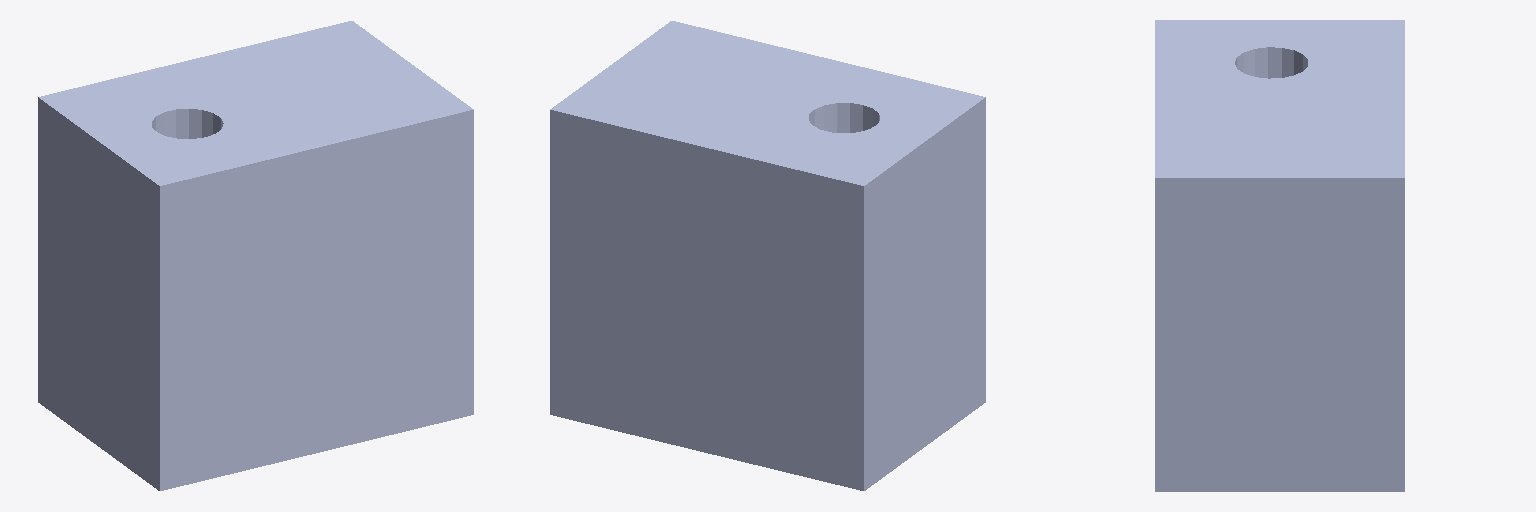
The robot description file, URDF, robot "pan_tilt_urdf":
<?xml version="1.0" encoding="utf-8"?>
<!-- This URDF was automatically created by SolidWorks to URDF Exporter! Originally created by [author] ([email redacted]) 
     Commit Version: 1.5.1-0-g916b5db  Build Version: 1.5.7152.31018
     For more information, please see http://wiki.ros.org/sw_urdf_exporter -->
<robot
  name="pan_tilt_urdf">
  <link
    name="base_link">
    <visual>
      <origin
        xyz="0 0 0"
        rpy="0 0 0" />
      <geometry>
        <mesh
          filename="package://pan_tilt_urdf/meshes/base_link.STL" />
      </geometry>
      <material
        name="">
        <color
          rgba="0.792156862745098 0.819607843137255 0.933333333333333 1" />
      </material>
    </visual>
    <collision>
      <origin
        xyz="0 0 0"
        rpy="0 0 0" />
      <geometry>
        <mesh
          filename="package://pan_tilt_urdf/meshes/base_link.STL" />
      </geometry>
    </collision>
  </link>
  <!-- <link
    name="link_1">
    <inertial>
      <origin
        xyz="0 0.0001 -0.0175"
        rpy="0 0 0" />
      <mass
        value="0.116439048622548" />
      <inertia
        ixx="5.4773296696691E-05"
        ixy="4.48041882672505E-08"
        ixz="-1.28518056547677E-09"
        iyy="3.6060486101088E-05"
        iyz="6.24058336574991E-10"
        izz="6.71747800213724E-05" />
    </inertial>
    <visual>
      <origin
        xyz="0 0 0"
        rpy="0 0 0" />
      <geometry>
        <mesh
          filename="package://pan_tilt_urdf/meshes/link_1.STL" />
      </geometry>
      <material
        name="">
        <color
          rgba="0.792156862745098 0.819607843137255 0.933333333333333 1" />
      </material>
    </visual>
    <collision>
      <origin
        xyz="0 0 0"
        rpy="0 0 0" />
      <geometry>
        <mesh
          filename="package://pan_tilt_urdf/meshes/link_1.STL" />
      </geometry>
    </collision>
  </link>
  <joint
    name="joint_1"
    type="revolute">
    <origin
      xyz="0 0 0"
      rpy="0 0 0" />
    <parent
      link="base_link" />
    <child
      link="link_1" />
    <axis
      xyz="0 0 0" />
    <limit
      lower="0"
      upper="0"
      effort="0"
      velocity="0" />
  </joint> -->

  <!-- <link
    name="link_2">
    <inertial>
      <origin
        xyz="-0.000106670791177172 -0.0204708849183403 -0.022011080240118"
        rpy="0 0 0" />
      <mass
        value="0.0445303539967062" />
      <inertia
        ixx="2.15391444555253E-05"
        ixy="1.54239563794704E-07"
        ixz="2.1428028531665E-08"
        iyy="2.69536793976105E-05"
        iyz="-4.1238886376038E-06"
        izz="3.86352288574204E-05" />
    </inertial>
    <visual>
      <origin
        xyz="0 0 0"
        rpy="0 0 0" />
      <geometry>
        <mesh
          filename="package://pan_tilt_urdf/meshes/link_2.STL" />
      </geometry>
      <material
        name="">
        <color
          rgba="0.792156862745098 0.819607843137255 0.933333333333333 1" />
      </material>
    </visual>
    <collision>
      <origin
        xyz="0 0 0"
        rpy="0 0 0" />
      <geometry>
        <mesh
          filename="package://pan_tilt_urdf/meshes/link_2.STL" />
      </geometry>
    </collision>
  </link>
  <joint
    name="joint_2"
    type="revolute">
    <origin
      xyz="0 -0.02545 0.00039"
      rpy="0 0 0" />
    <parent
      link="link_1" />
    <child
      link="link_2" />
    <axis
      xyz="0 0 0" />
    <limit
      lower="0"
      upper="0"
      effort="0"
      velocity="0" />
  </joint> -->
</robot>

--- What the picture shows (computed from the rendered views, not written in the file) ---
The picture shows the robot from 3 angles, left to right: view 1: azimuth 30°, elevation 25°; view 2: azimuth 150°, elevation 25°; view 3: azimuth 270°, elevation 25°; orthographic projection.
Model pan_tilt_urdf with 1 links and 0 joints (none), rooted at base_link, posed every joint at zero.
Links seen in each view (by area): view 1: base_link; view 2: base_link; view 3: base_link.
Link boxes in pixels (x1,y1,x2,y2): base_link: (38, 21, 473, 490); base_link: (550, 21, 985, 490); base_link: (1155, 20, 1404, 491).
Size in the robot's own frame: 0.07 by 0.047 by 0.065 metres.
Meshes: 1 distinct files referenced, 1 mesh visuals loaded (1 binary STL).